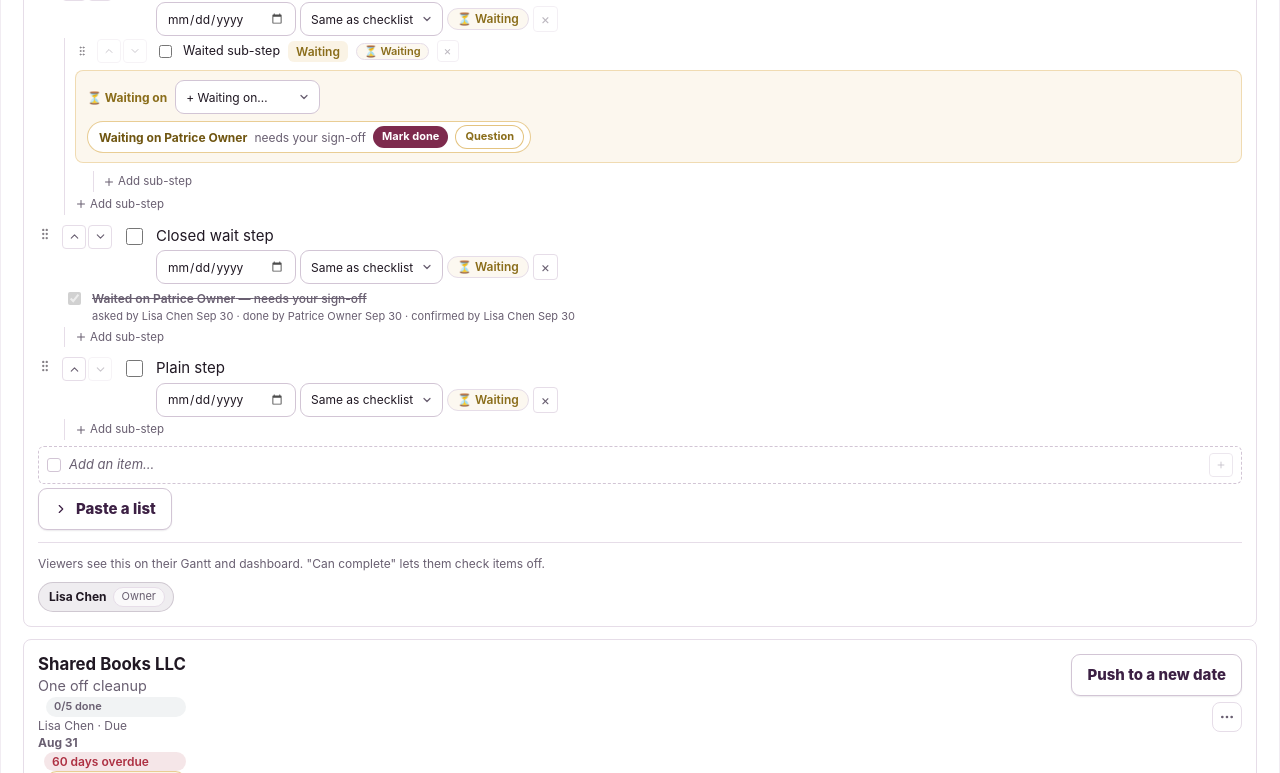
Test: delete control on a top-level step with an open wait (owner) › stays on for a step whose wait is verified and for one with no wait
The image size is (1280, 773).
(page scrolled)
Expected: the button named "Delete item" is enabled, [533,254,558,280]
Click the button named "Delete item" at (545, 400), box [533,387,558,413]
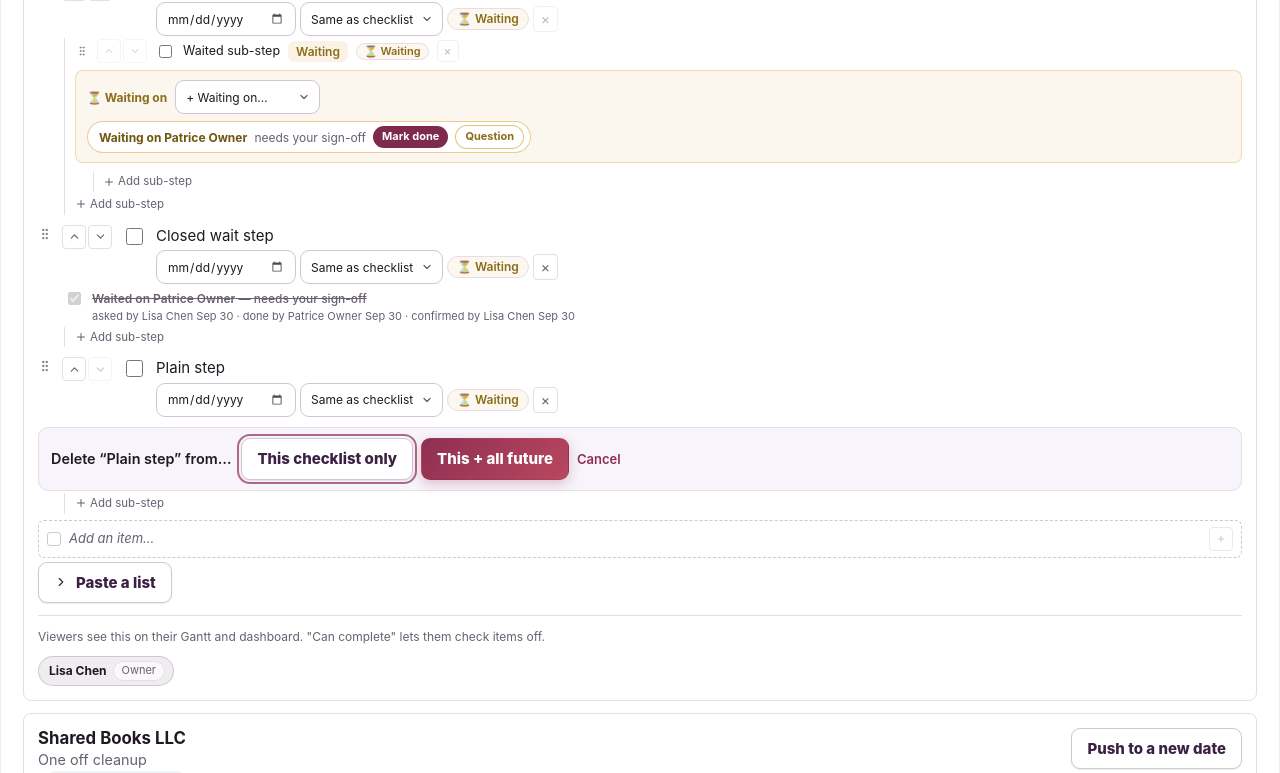
Result: the element named "Where to delete this step" is shown at [38,427,1242,491]
